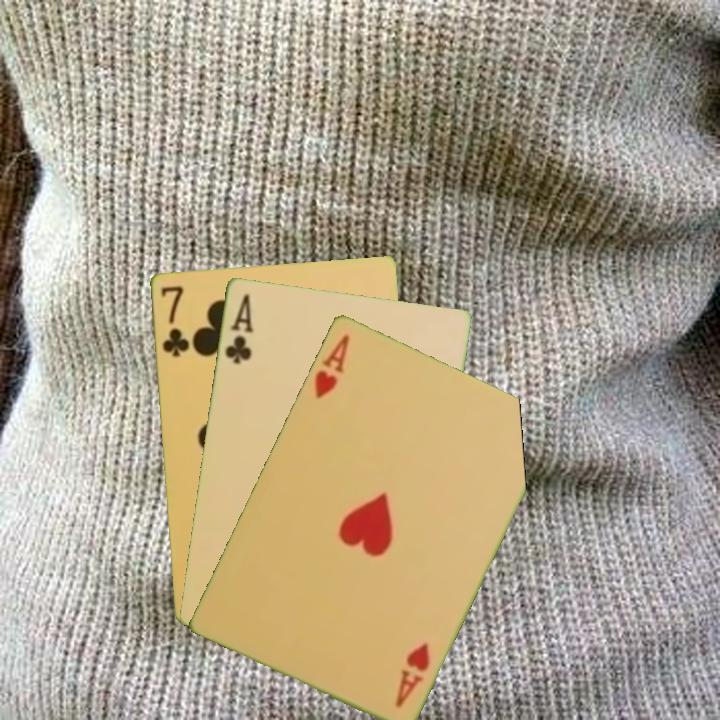7c: (157, 281, 192, 359)
Ac: (221, 290, 256, 366)
Ah: (310, 330, 353, 402), (391, 639, 433, 710)
